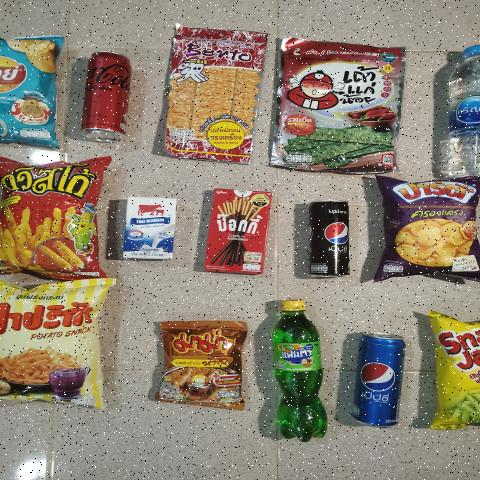bento_red: (162, 26, 252, 165)
coke_red: (84, 46, 124, 144)
crystal: (443, 42, 480, 181)
fanta_green: (264, 299, 326, 442)
lay_blue: (0, 37, 58, 137)
mama: (157, 324, 243, 410)
paprika: (0, 283, 103, 406)
party_purple: (380, 176, 474, 275)
pepsi_black: (310, 196, 355, 282)
pepsi_blue: (349, 324, 409, 444)
pokki: (208, 191, 271, 272)
taokaenoi: (287, 44, 401, 175)
thai_denmark: (120, 195, 180, 267)
twisco: (0, 162, 110, 274)
